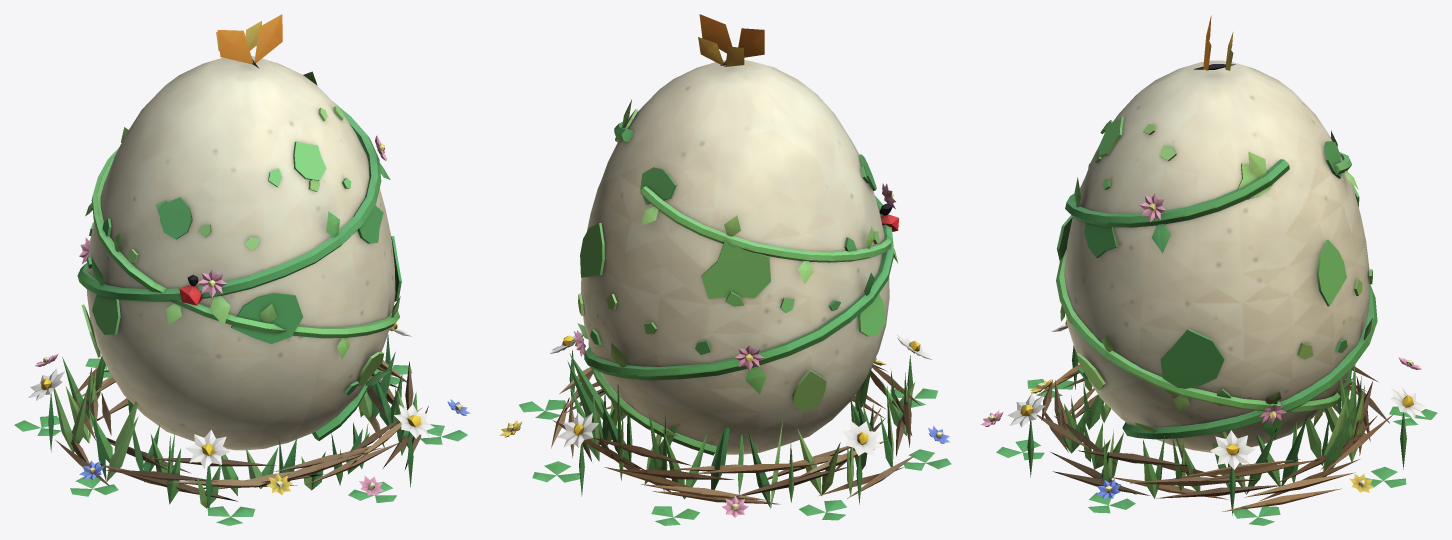
File: egg_meadow.fbx
The picture shows the model from 3 angles, left to right: view 1: azimuth 30°, elevation 25°; view 2: azimuth 150°, elevation 25°; view 3: azimuth 270°, elevation 25°; orthographic projection.
Visible parts, largest first — view 1: egg_meadow_body; view 2: egg_meadow_body; view 3: egg_meadow_body.
Boxes of the visible parts, x1,y1,x2,y2 form: egg_meadow_body: (14,14,470,525); egg_meadow_body: (499,14,951,525); egg_meadow_body: (980,15,1437,525).
Bounding box in the file's own units: 323 × 335 × 334.
Materials: 1 (1 with a texture image).
